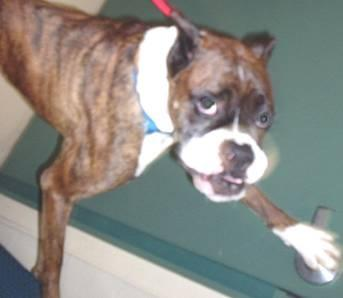dog: (0, 0, 340, 297)
